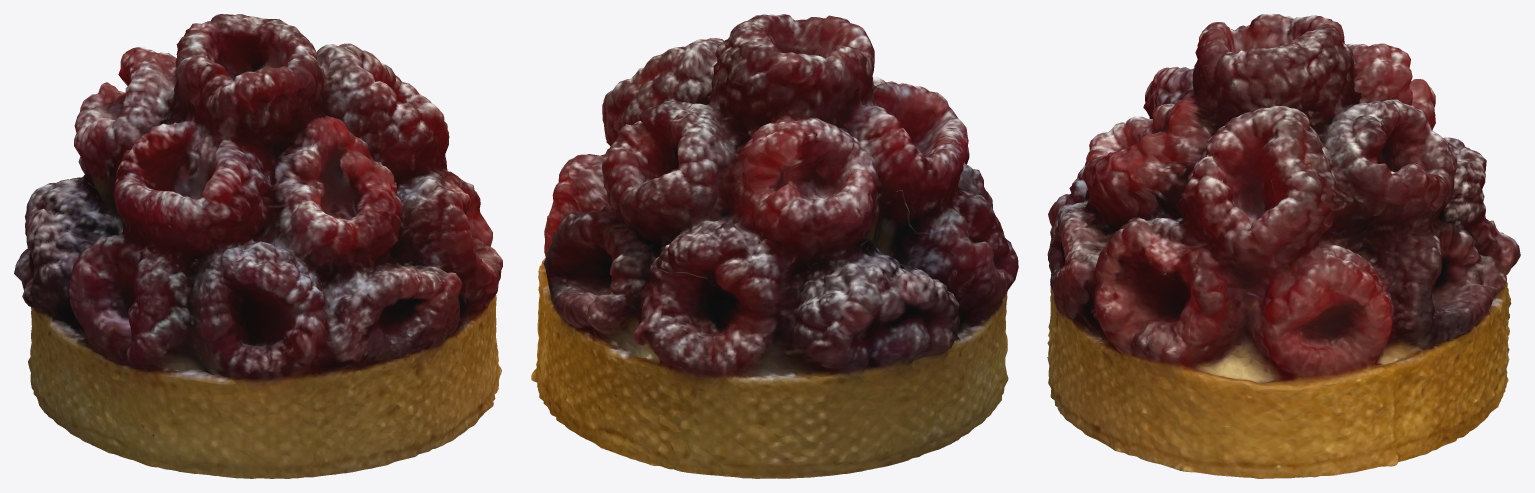
File: raspberry.glb
The picture shows the model from 3 angles, left to right: view 1: azimuth 30°, elevation 25°; view 2: azimuth 150°, elevation 25°; view 3: azimuth 270°, elevation 25°; orthographic projection. The views are drawn at different scales.
Visible parts, largest first — view 1: Object_2; view 2: Object_2; view 3: Object_2.
Boxes of the visible parts, left/top/right/bottom form: Object_2: left=14, top=14, right=502, bottom=478; Object_2: left=531, top=14, right=1018, bottom=478; Object_2: left=1047, top=14, right=1520, bottom=478.
Bounding box in the file's own units: 0.1984 × 0.1608 × 0.2.
Materials: 1 (1 with a texture image).
